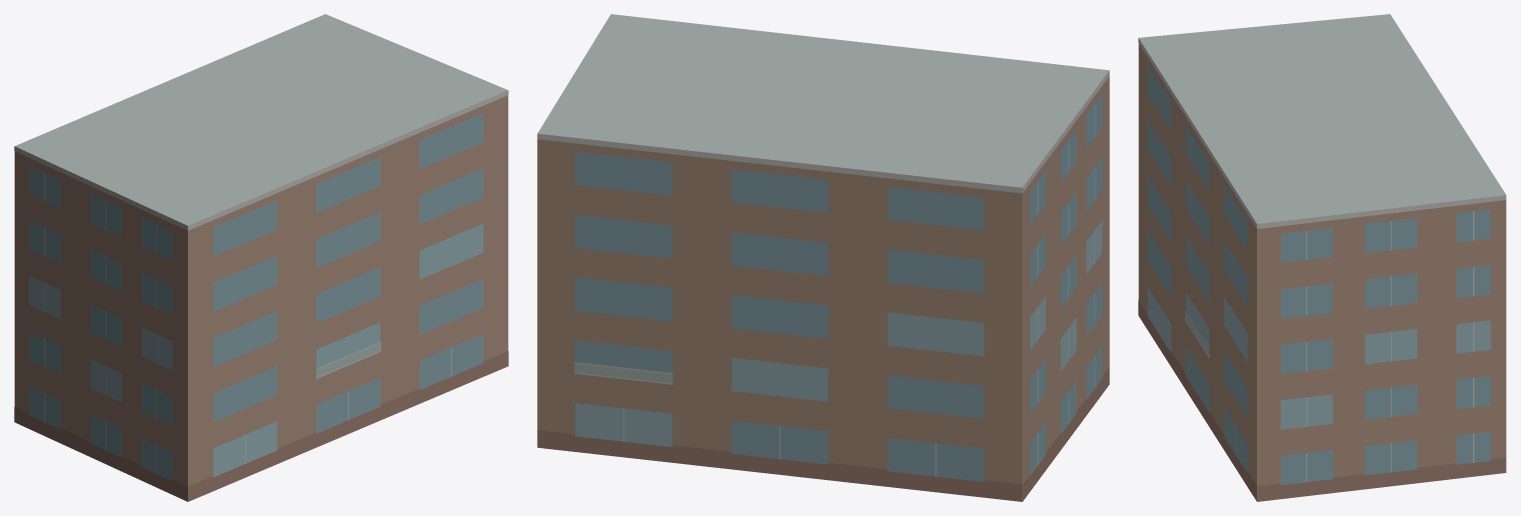
Rendered from survey-upis-32720011.glb.
3 views of the same model, side by side, from view 1: azimuth 30°, elevation 25°; view 2: azimuth 150°, elevation 25°; view 3: azimuth 270°, elevation 25° (orthographic). The views are drawn at different scales.
Parts seen in each view (by area): view 1: survey-upis-32720011.tmp; view 2: survey-upis-32720011.tmp; view 3: survey-upis-32720011.tmp.
Part boxes in pixels (bbox=[...]): survey-upis-32720011.tmp: bbox=[14, 14, 508, 501]; survey-upis-32720011.tmp: bbox=[537, 14, 1109, 501]; survey-upis-32720011.tmp: bbox=[1138, 14, 1506, 501].
Size of the model in its own units: 22.4 by 13.8 by 16.58.
